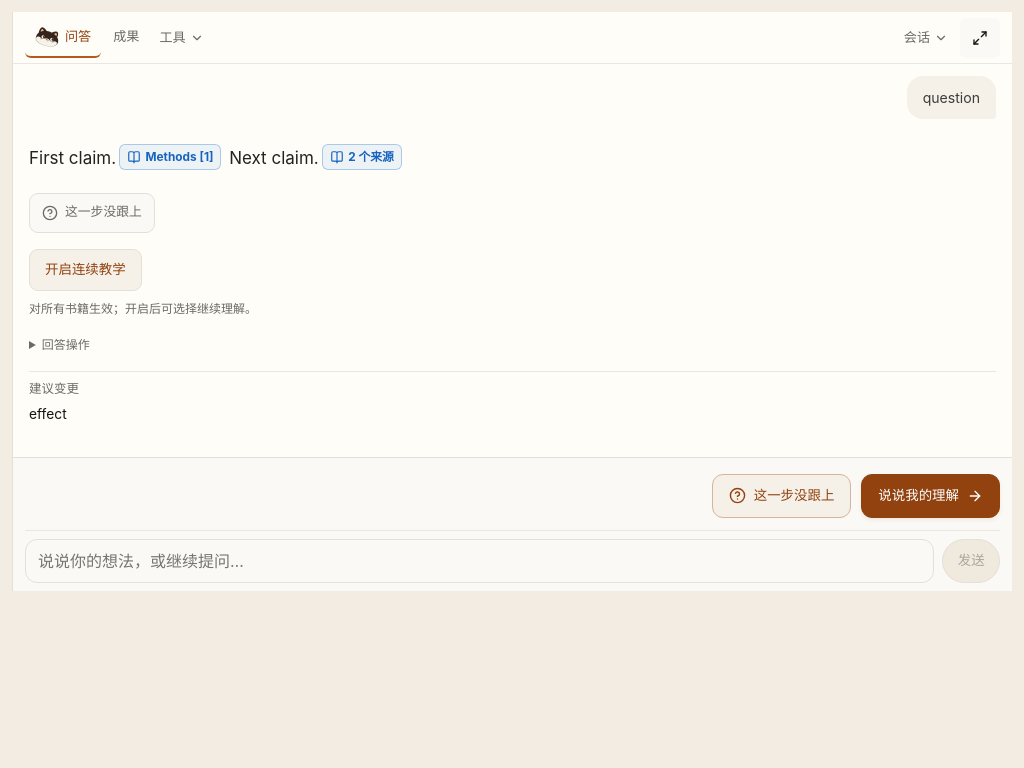
RightRail agent sources › shows stale snapshots and disables reader navigation
This screenshot has width=1024, height=768.
Click the button with class "agent-source-button" showing "Methods [1]". click: click(170, 157)
box: [119,144,221,170]
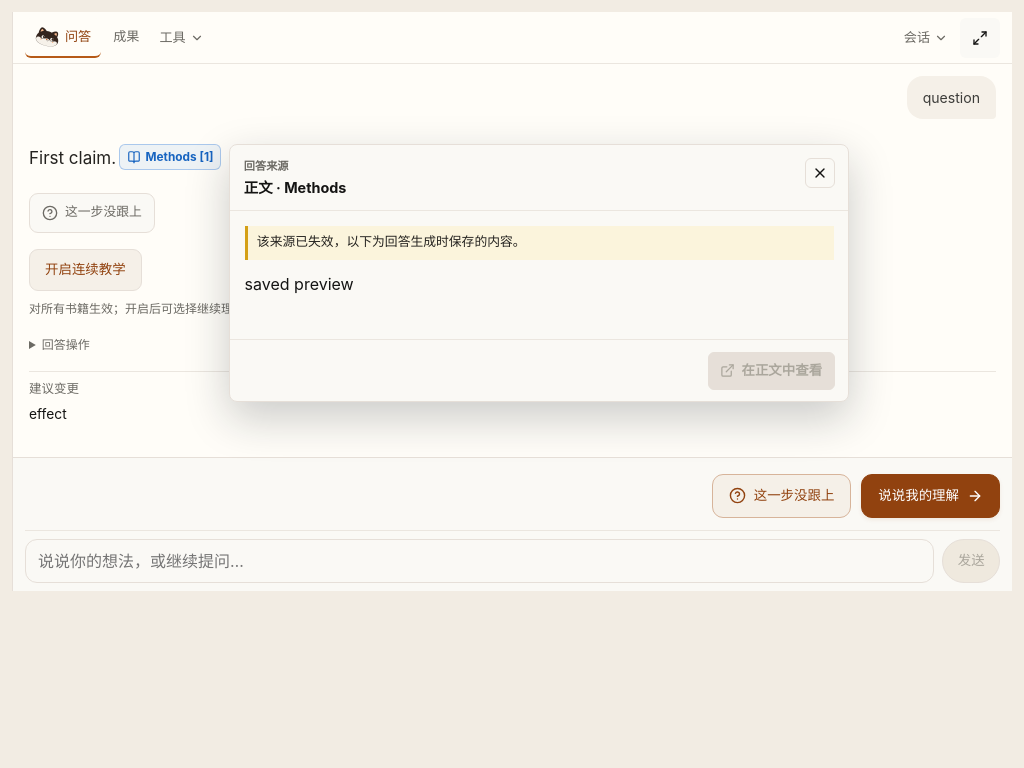
Check: the text with class "source-stale" shows "已失效", box [245,226,834,260]
Check: the button with class "source-open-reader" is disabled, box [708,352,835,390]
